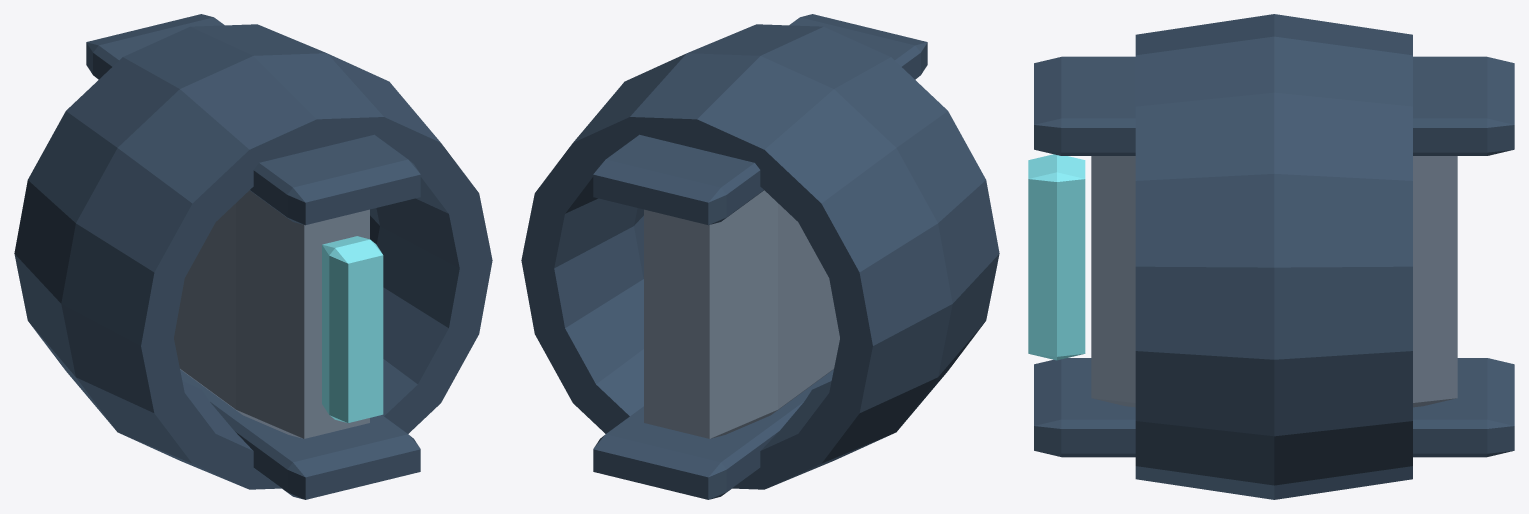
Rendered from EnergyPickup.fbx.
The picture shows the model from 3 angles, left to right: view 1: azimuth 30°, elevation 25°; view 2: azimuth 150°, elevation 25°; view 3: azimuth 270°, elevation 25°; orthographic projection. The views are drawn at different scales.
Visible parts, largest first — view 1: EnergyPickupMesh; view 2: EnergyPickupMesh; view 3: EnergyPickupMesh.
Boxes of the visible parts, left/top/right/bottom form: EnergyPickupMesh: left=14, top=14, right=492, bottom=499; EnergyPickupMesh: left=521, top=14, right=999, bottom=499; EnergyPickupMesh: left=1028, top=14, right=1514, bottom=499.
Size of the model in its own units: 1 by 1 by 1.
